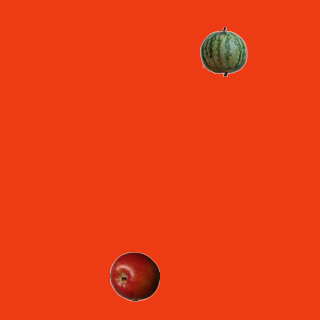Apple Braeburn: (109, 251, 159, 301)
Watermelon: (198, 26, 248, 76)
